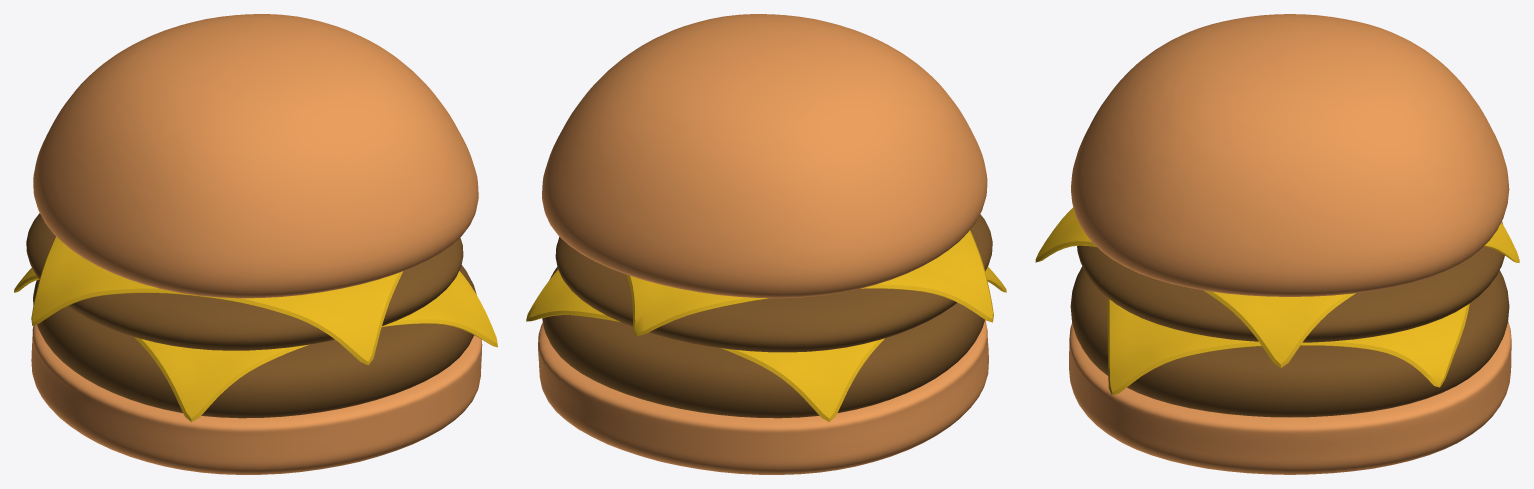
The model's file is burger-draco.glb.
3 views of the same model, side by side, from view 1: azimuth 30°, elevation 25°; view 2: azimuth 150°, elevation 25°; view 3: azimuth 270°, elevation 25° (orthographic).
Parts seen in each view (by area): view 1: bunTop, bunBottom, meatOne, meatTwo, CheeseTwo, CheeseOne; view 2: bunTop, bunBottom, meatOne, meatTwo, CheeseTwo, CheeseOne; view 3: bunTop, bunBottom, meatOne, meatTwo, CheeseOne, CheeseTwo.
Boxes of the visible parts, x1,y1,x2,y2 form: bunTop: [33, 14, 478, 298]; bunBottom: [31, 324, 482, 474]; meatOne: [33, 265, 476, 418]; meatTwo: [26, 213, 463, 350]; CheeseTwo: [31, 236, 402, 365]; CheeseOne: [14, 268, 497, 422]; bunTop: [542, 14, 987, 298]; bunBottom: [538, 320, 988, 474]; meatOne: [542, 267, 984, 418]; meatTwo: [555, 214, 992, 352]; CheeseTwo: [626, 230, 993, 336]; CheeseOne: [526, 267, 1006, 421]; bunTop: [1071, 14, 1509, 296]; bunBottom: [1069, 321, 1511, 474]; meatOne: [1070, 266, 1509, 417]; meatTwo: [1077, 221, 1504, 342]; CheeseOne: [1107, 297, 1469, 395]; CheeseTwo: [1035, 207, 1519, 367].
Bounding box in the file's own units: 10.15 × 8.16 × 9.92.
